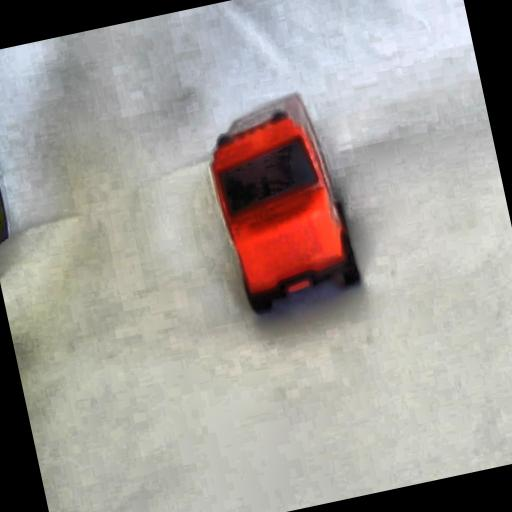fire_truck: (195, 86, 366, 320)
